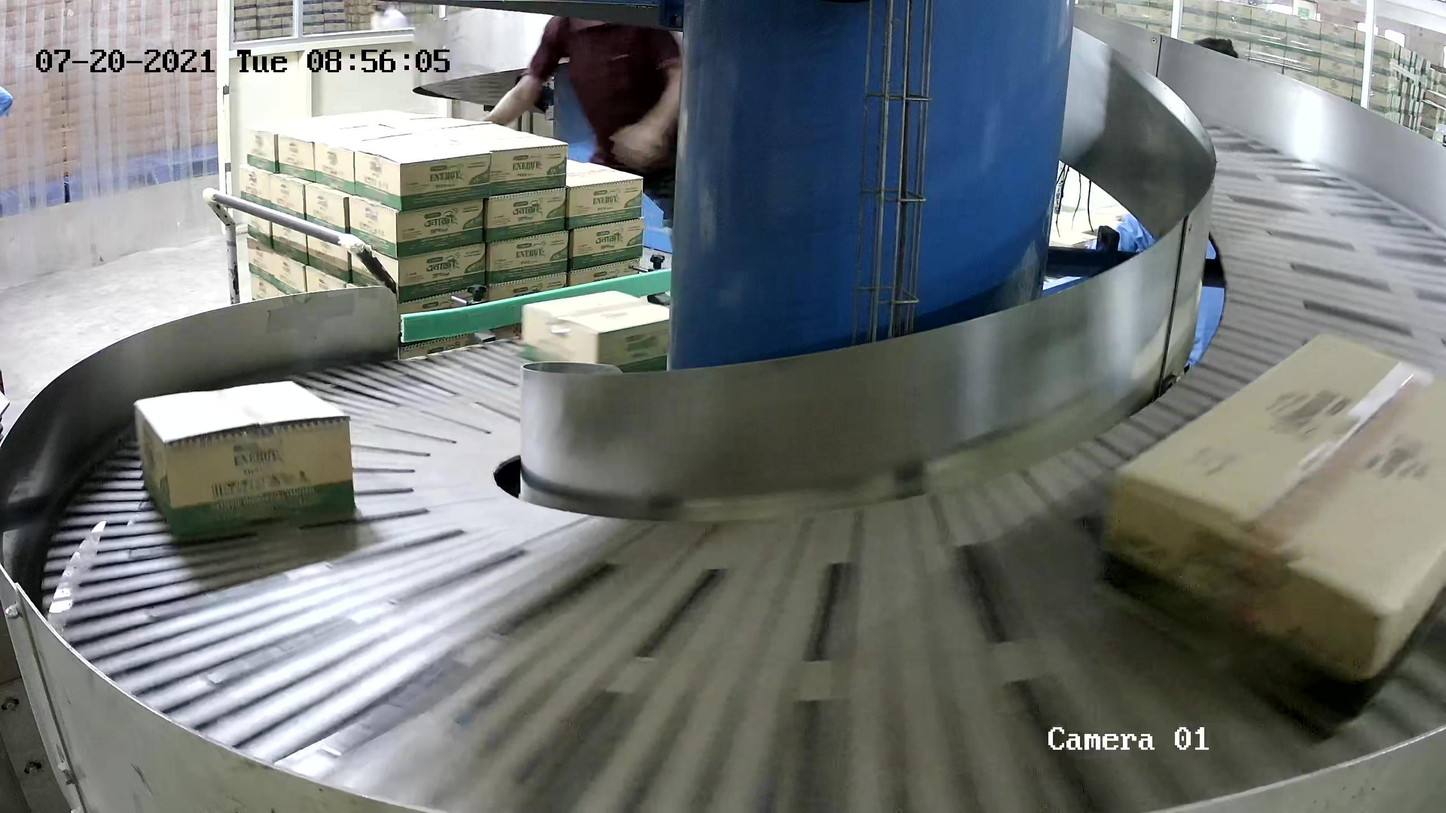Box: (1090, 325, 1446, 739), (134, 376, 355, 542), (522, 290, 678, 389)
